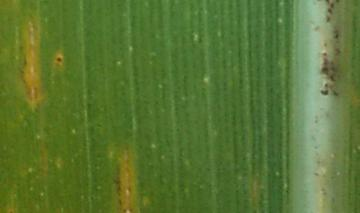tarspot: (330, 61, 343, 83), (319, 52, 331, 74), (323, 1, 334, 25), (317, 82, 332, 98), (54, 52, 66, 67), (331, 86, 341, 101), (332, 30, 341, 42), (335, 46, 342, 58)
